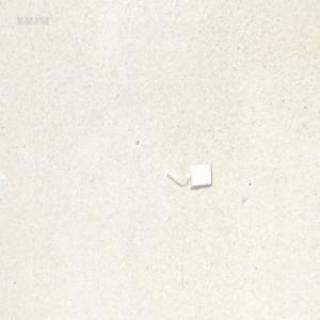LuggageTagtrack_idkeyframe: (165, 160, 212, 188)
